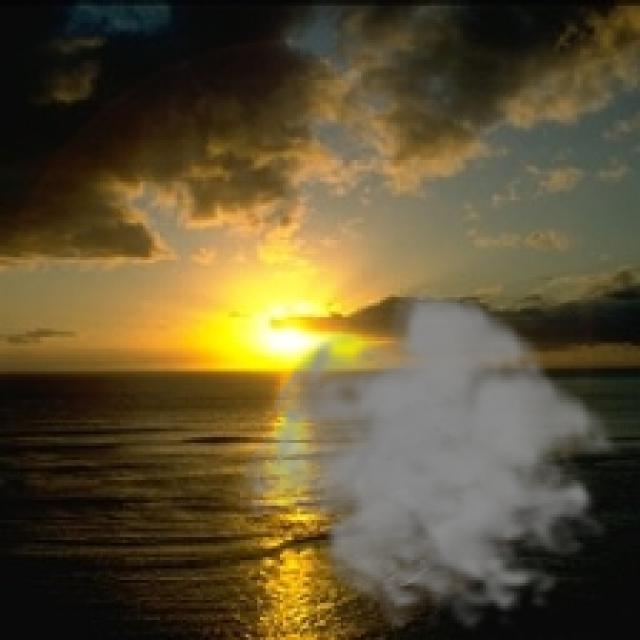smoke: (232, 286, 632, 631)
